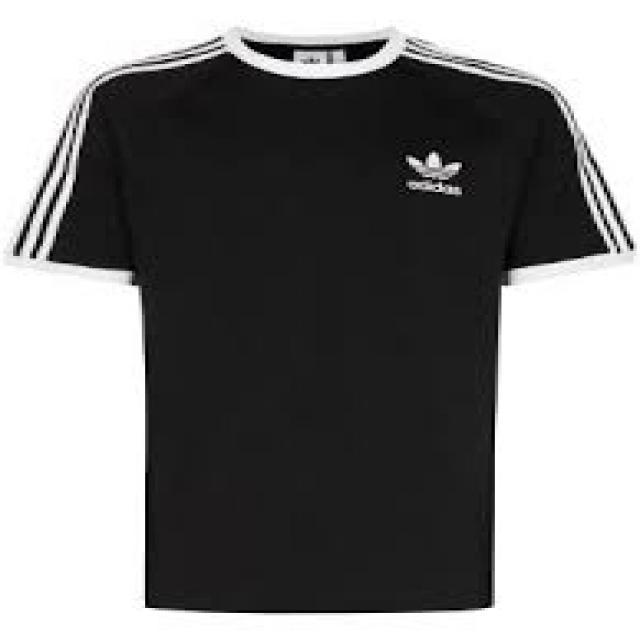Adidas: (397, 146, 467, 203)
